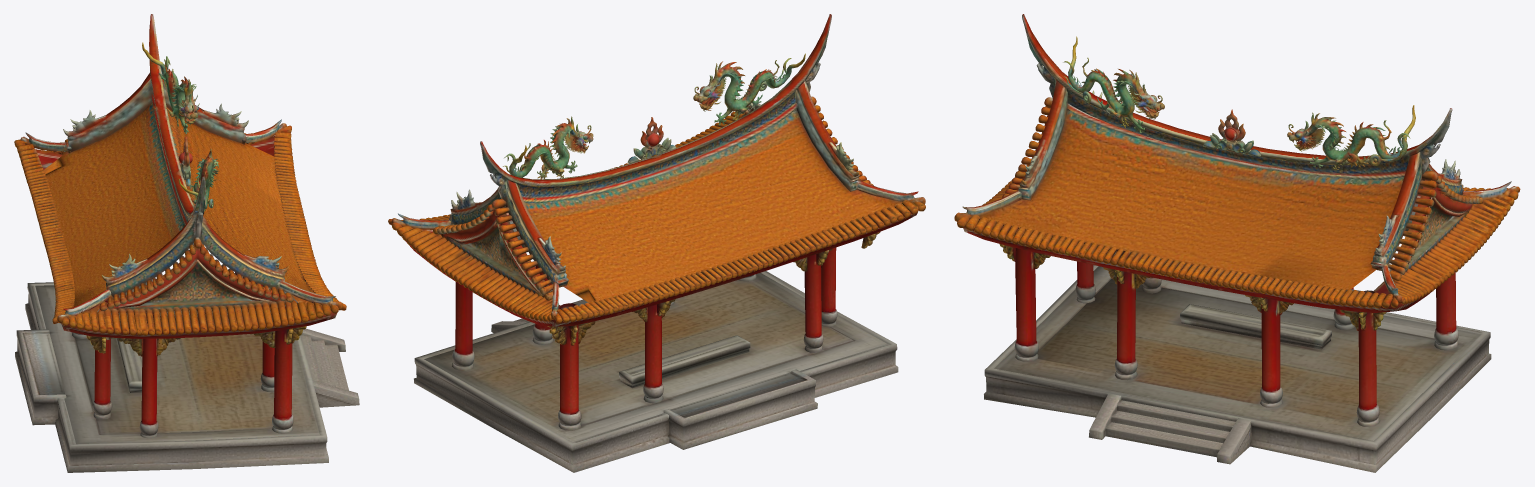
File: hill-pavilion.glb
The picture shows the model from 3 angles, left to right: view 1: azimuth 30°, elevation 25°; view 2: azimuth 150°, elevation 25°; view 3: azimuth 270°, elevation 25°; orthographic projection. The views are drawn at different scales.
Parts seen in each view (by area): view 1: tripo_node_e9f9282d-f528-49bd-b3dd-86a7eea4fdc7; view 2: tripo_node_e9f9282d-f528-49bd-b3dd-86a7eea4fdc7; view 3: tripo_node_e9f9282d-f528-49bd-b3dd-86a7eea4fdc7.
Boxes of the visible parts, x1,y1,x2,y2 form: tripo_node_e9f9282d-f528-49bd-b3dd-86a7eea4fdc7: [14, 14, 359, 472]; tripo_node_e9f9282d-f528-49bd-b3dd-86a7eea4fdc7: [388, 14, 925, 472]; tripo_node_e9f9282d-f528-49bd-b3dd-86a7eea4fdc7: [954, 14, 1520, 472].
Size of the model in its own units: 0.9857 by 0.7427 by 1.16.
1 material, 1 textured.
